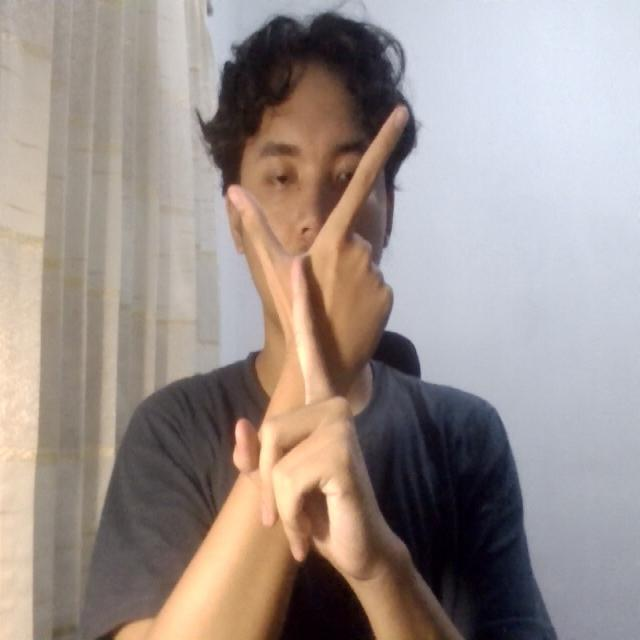No: (190, 89, 443, 592)
